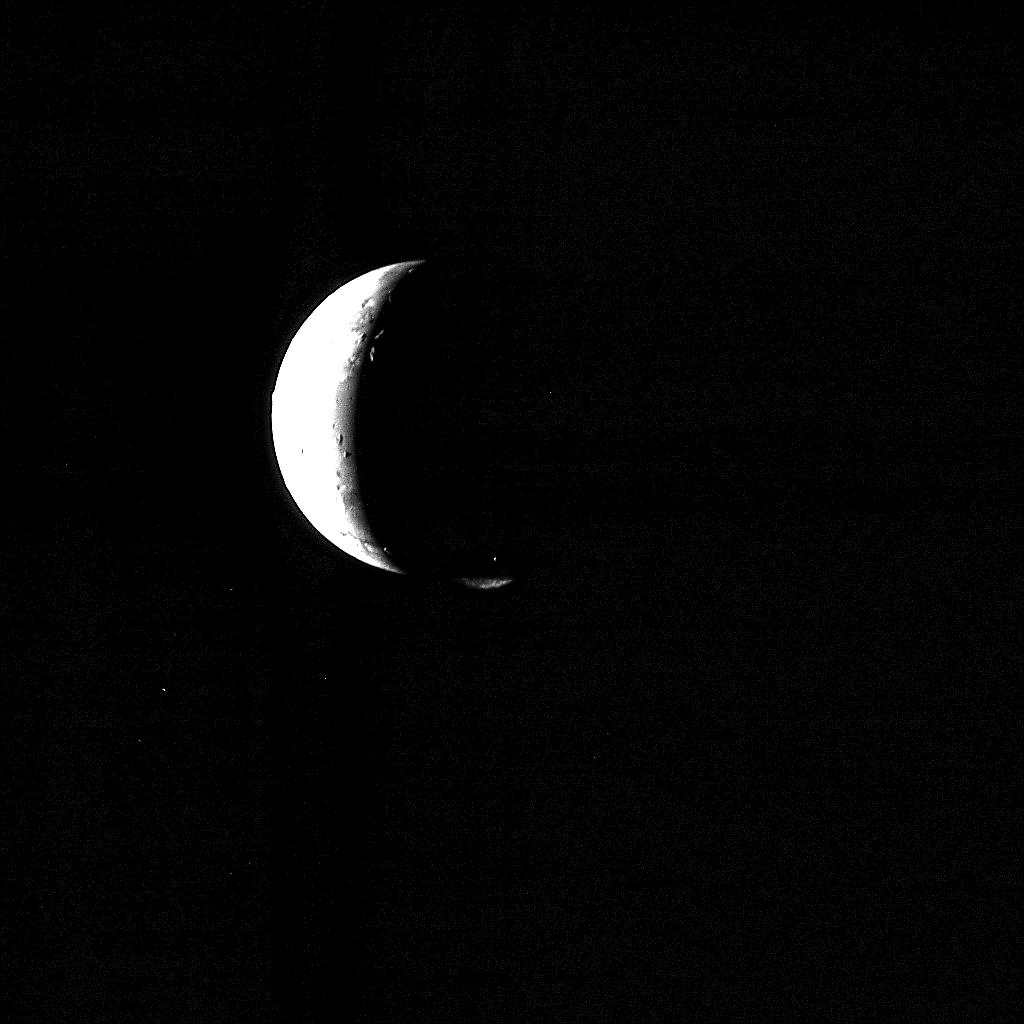plumes: (461, 575, 510, 591)
